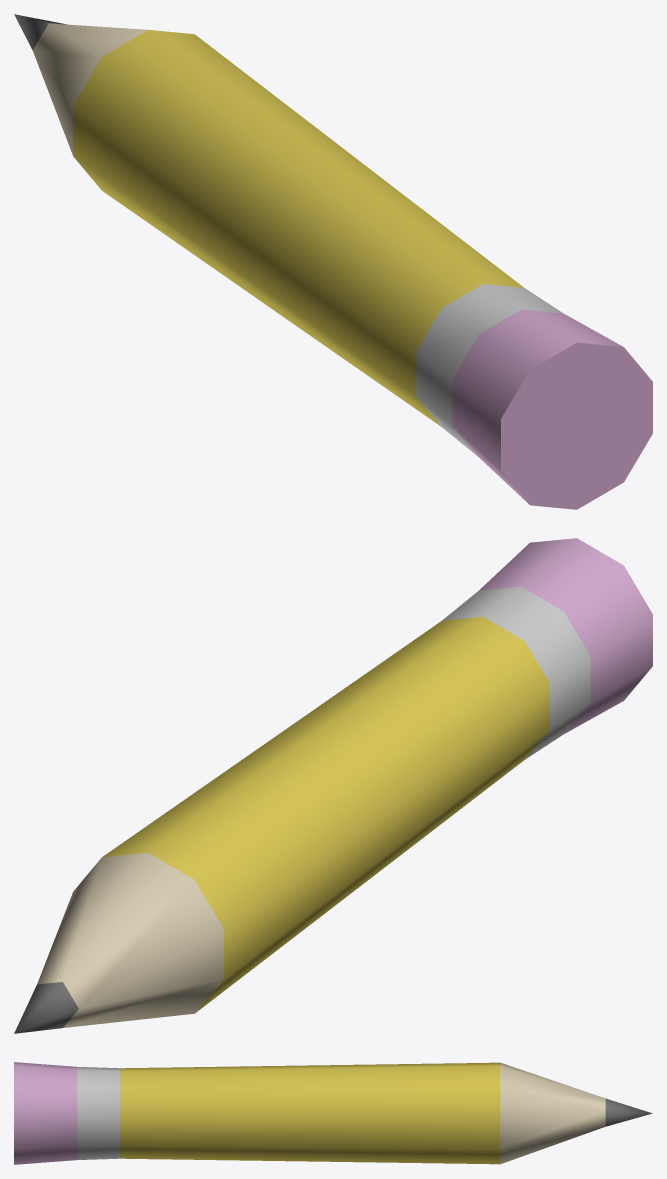
The model's file is PencilD.glb.
3 renders of one model, top to bottom at view 1: azimuth 30°, elevation 25°; view 2: azimuth 150°, elevation 25°; view 3: azimuth 270°, elevation 25°, orthographic. The views are drawn at different scales.
Parts seen in each view (by area): view 1: PencilD; view 2: PencilD; view 3: PencilD.
Part boxes in pixels (box(x1,y1,x2,y2)): PencilD: box(14, 14, 652, 509); PencilD: box(14, 538, 652, 1033); PencilD: box(14, 1062, 652, 1164).
Size of the model in its own units: 0.04 by 0.042 by 0.2563.
